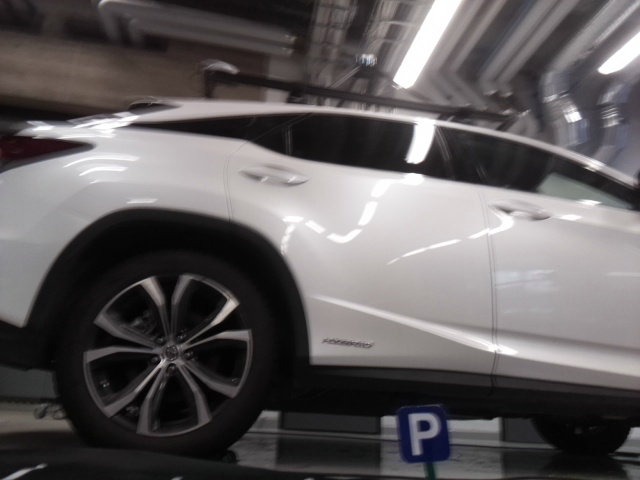Parking: (395, 406, 449, 464)
